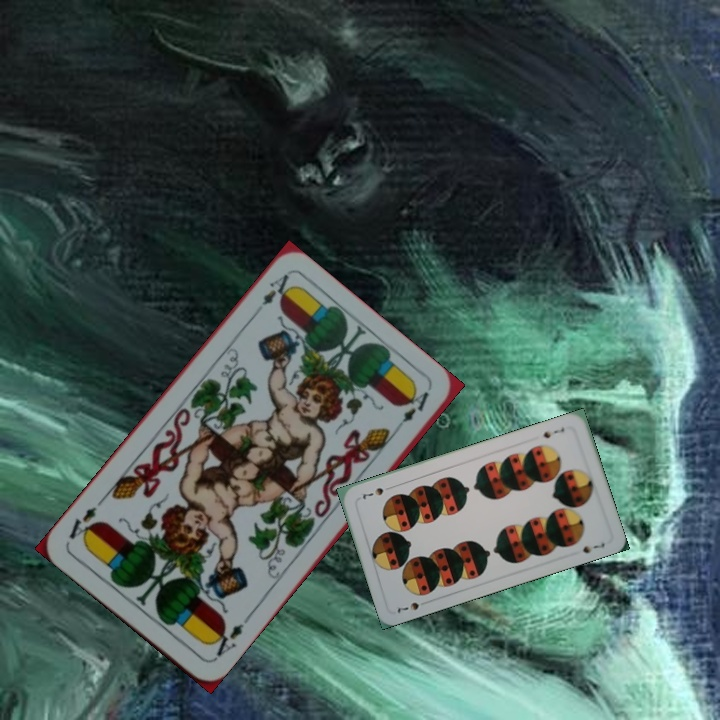EA: (248, 270, 295, 320), (206, 613, 252, 663)
S7: (393, 597, 431, 615), (539, 423, 567, 441)
